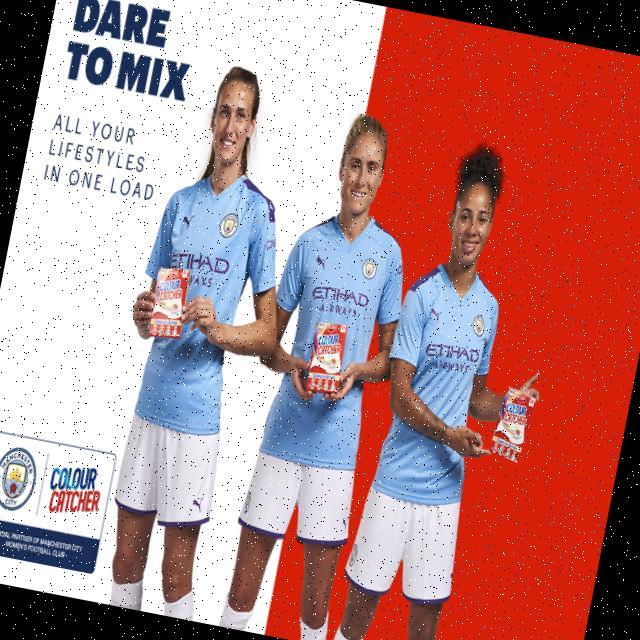Etihad Airways: (167, 248, 231, 291), (309, 283, 370, 321), (423, 340, 481, 378)
Puma: (181, 212, 195, 232), (429, 308, 443, 326), (190, 496, 204, 514), (315, 255, 328, 271), (341, 516, 349, 531)
